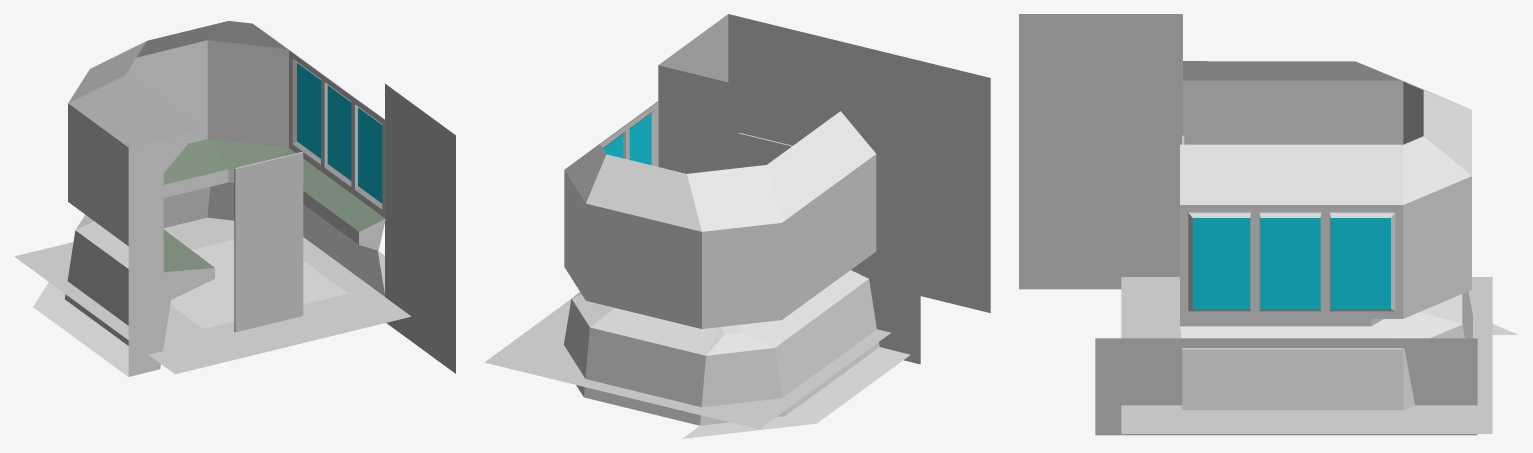
Rendered from controllroom.glb.
3 views of the same model, side by side, from view 1: azimuth 30°, elevation 25°; view 2: azimuth 150°, elevation 25°; view 3: azimuth 270°, elevation 25° (orthographic). The views are drawn at different scales.
Visible parts, largest first — view 1: room, wall_back, floor, door, Plane; view 2: room, wall_back, floor, door; view 3: room, wall_back, floor, Plane.002.
Boxes of the visible parts, x1,y1,x2,y2 form: room: (33,21,385,376); wall_back: (385,83,455,373); floor: (14,217,410,374); door: (234,152,303,332); Plane: (170,240,347,328); room: (563,79,910,438); wall_back: (658,14,990,364); floor: (484,299,890,429); door: (738,133,792,167); room: (1180,61,1518,410); wall_back: (1019,14,1182,289); floor: (1121,277,1492,433); Plane.002: (1095,338,1477,435).
Size of the model in its own units: 4.26 by 3.15 by 5.18.
